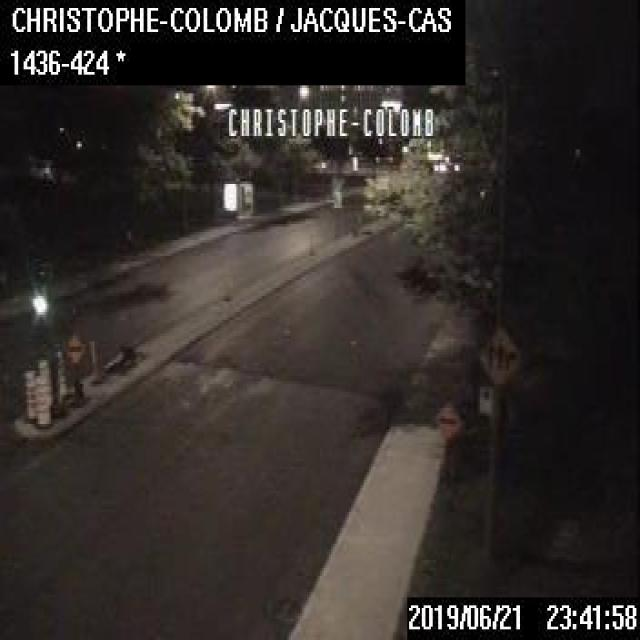construction: (33, 371, 51, 426), (37, 354, 51, 410), (23, 366, 35, 422), (56, 347, 68, 398)
